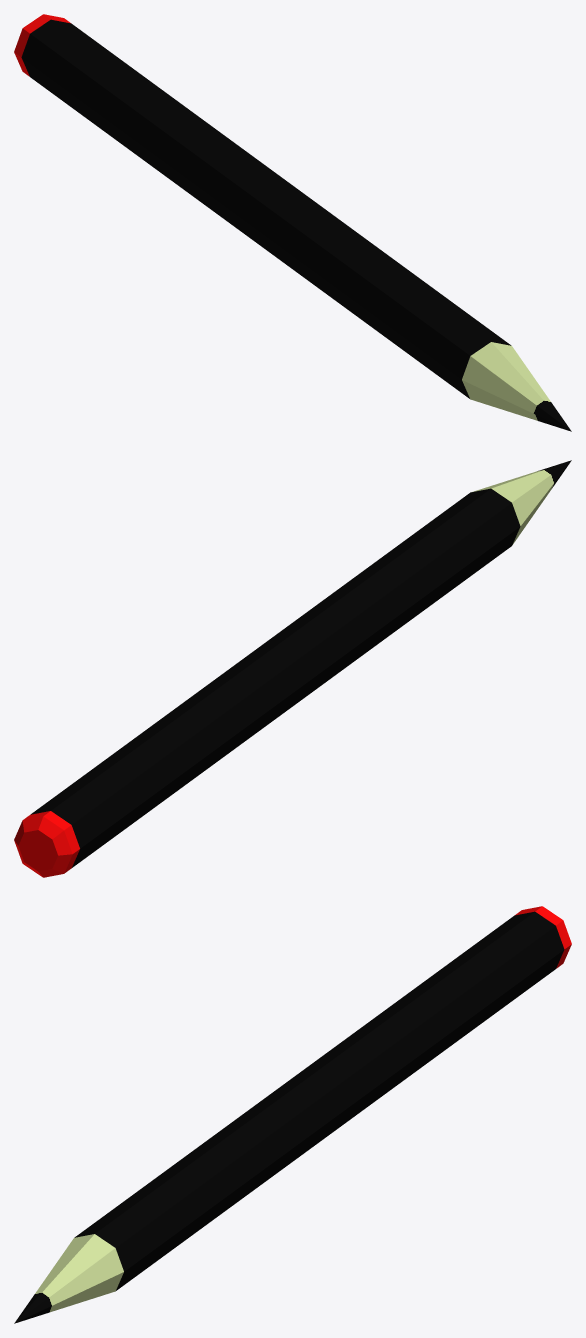
The model's file is Pencil_A.fbx.
3 views of the same model, one above another, from view 1: azimuth 30°, elevation 25°; view 2: azimuth 150°, elevation 25°; view 3: azimuth 330°, elevation 25° (orthographic).
Visible parts, largest first — view 1: Cylinder.001; view 2: Cylinder.001; view 3: Cylinder.001.
Boxes of the visible parts, x1,y1,x2,y2 form: Cylinder.001: (14, 14, 571, 431); Cylinder.001: (14, 460, 571, 877); Cylinder.001: (14, 906, 571, 1323).
Size of the model in its own units: 1.21 by 1.21 by 18.99.
